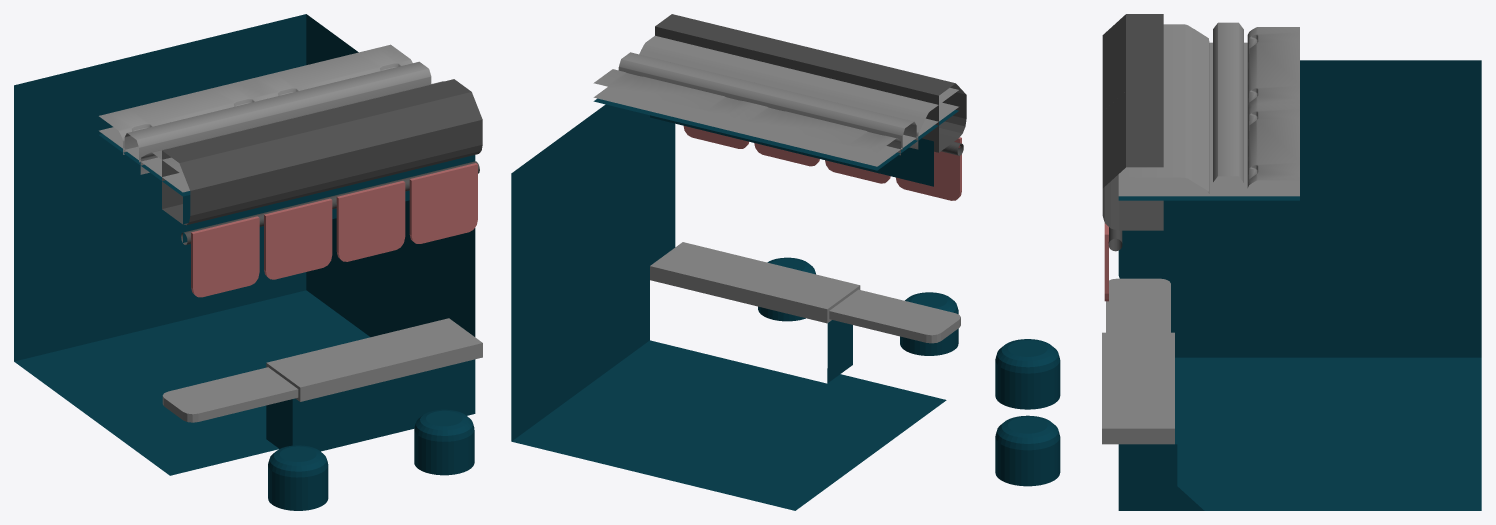
The model's file is MB_Restaurant_Straight_UpperLevel_Small.fbx.
3 views of the same model, side by side, from view 1: azimuth 30°, elevation 25°; view 2: azimuth 150°, elevation 25°; view 3: azimuth 270°, elevation 25° (orthographic). The views are drawn at different scales.
Visible parts, largest first — view 1: Cube.6103; view 2: Cube.6103; view 3: Cube.6103.
Boxes of the visible parts, x1,y1,x2,y2 form: Cube.6103: (14, 14, 482, 510); Cube.6103: (511, 14, 966, 510); Cube.6103: (995, 14, 1481, 510).
Bounding box in the file's own units: 4 × 4.18 × 5.36.
